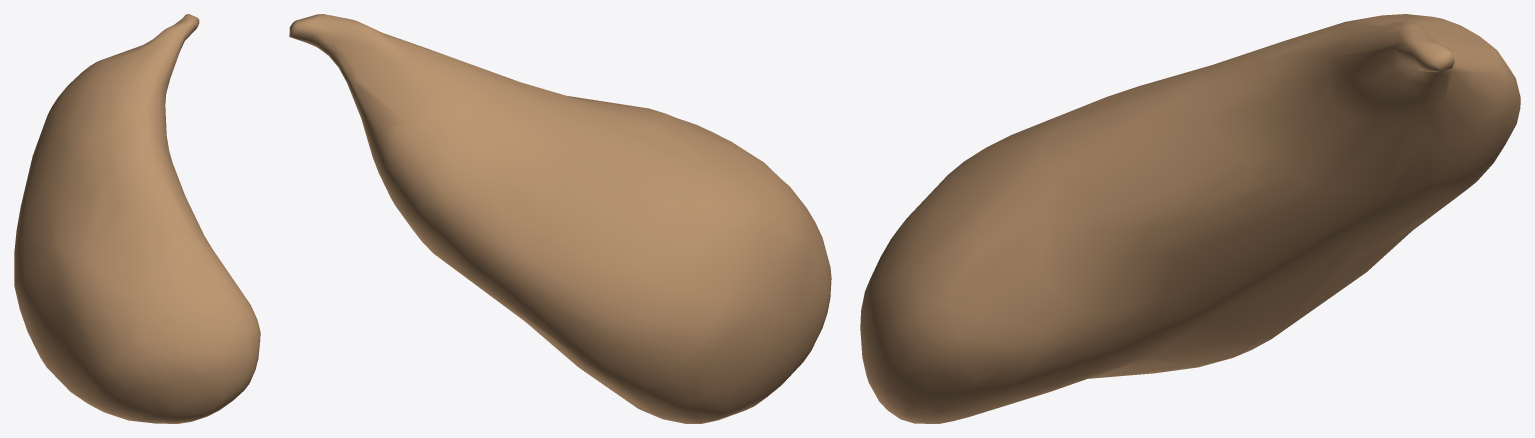
Rendered from gallbladder.glb.
3 renders of one model, left to right at view 1: azimuth 30°, elevation 25°; view 2: azimuth 150°, elevation 25°; view 3: azimuth 270°, elevation 25°, orthographic. The views are drawn at different scales.
Parts seen in each view (by area): view 1: gallbladder; view 2: gallbladder; view 3: gallbladder.
Boxes of the visible parts, x1,y1,x2,y2 form: gallbladder: (14, 14, 260, 423); gallbladder: (289, 14, 831, 423); gallbladder: (860, 14, 1520, 423).
Size of the model in its own units: 0.0364 by 0.0404 by 0.0484.
